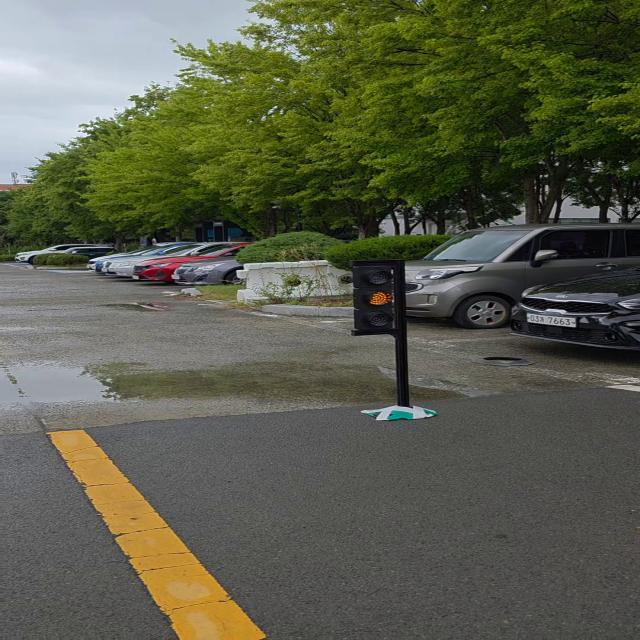yellow: (350, 260, 410, 337)
